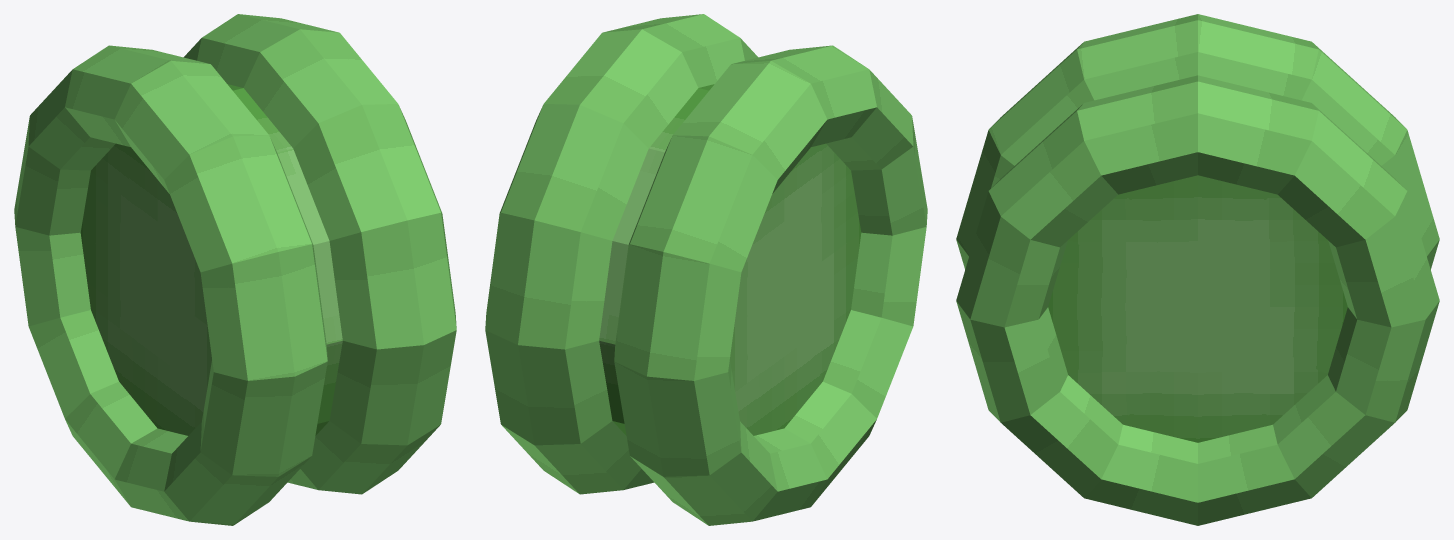
File: slime_yoyo.obj
3 views of the same model, side by side, from view 1: azimuth 30°, elevation 25°; view 2: azimuth 150°, elevation 25°; view 3: azimuth 270°, elevation 25° (orthographic). The views are drawn at different scales.
Parts seen in each view (by area): view 1: torus2, torus1, cylinder; view 2: torus2, torus1, cylinder; view 3: torus1, cylinder, torus2.
Boxes of the visible parts, bbox=[...] form: torus2: bbox=[14, 45, 327, 525]; torus1: bbox=[183, 14, 456, 494]; cylinder: bbox=[80, 84, 342, 435]; torus2: bbox=[614, 45, 927, 525]; torus1: bbox=[485, 14, 758, 494]; cylinder: bbox=[599, 84, 861, 435]; torus1: bbox=[956, 75, 1439, 525]; cylinder: bbox=[1048, 175, 1347, 442]; torus2: bbox=[956, 14, 1439, 269].
Bounding box in the file's own units: 0.2812 × 0.5 × 0.5.
